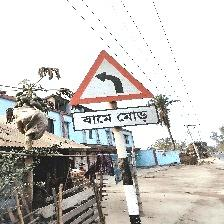Left-Turn: (68, 50, 159, 133)
